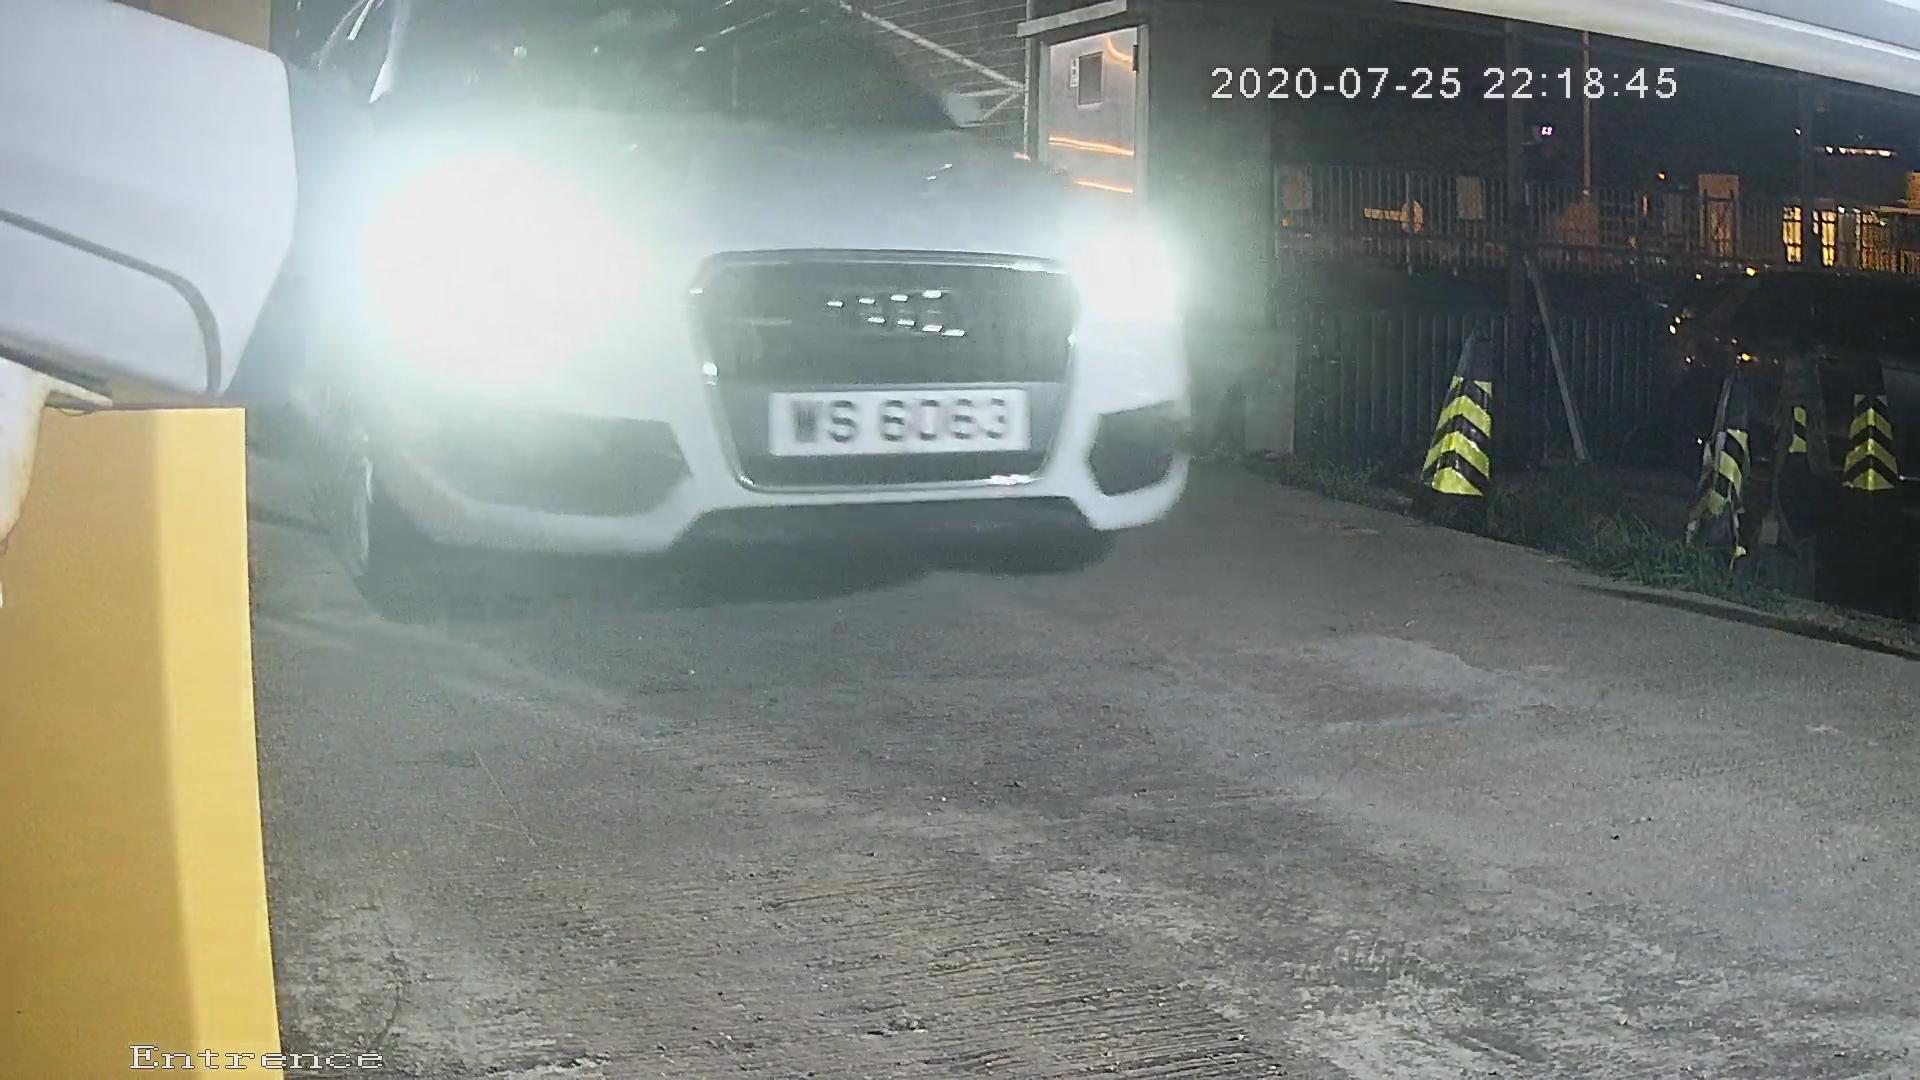License Plate: (712, 359, 1070, 487)
